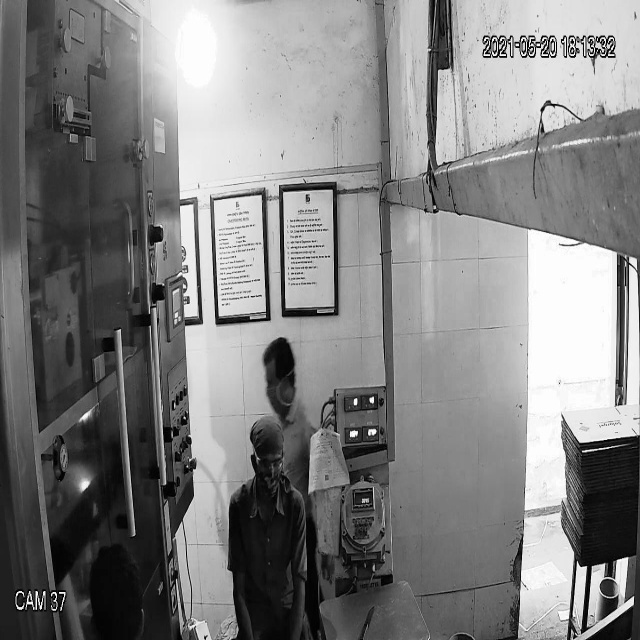Gafas: (250, 438, 286, 477)
